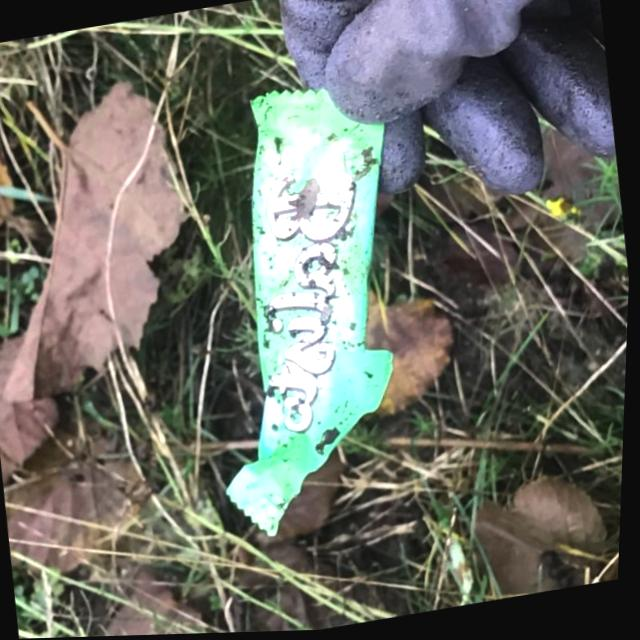Plastic: (167, 69, 445, 550)
